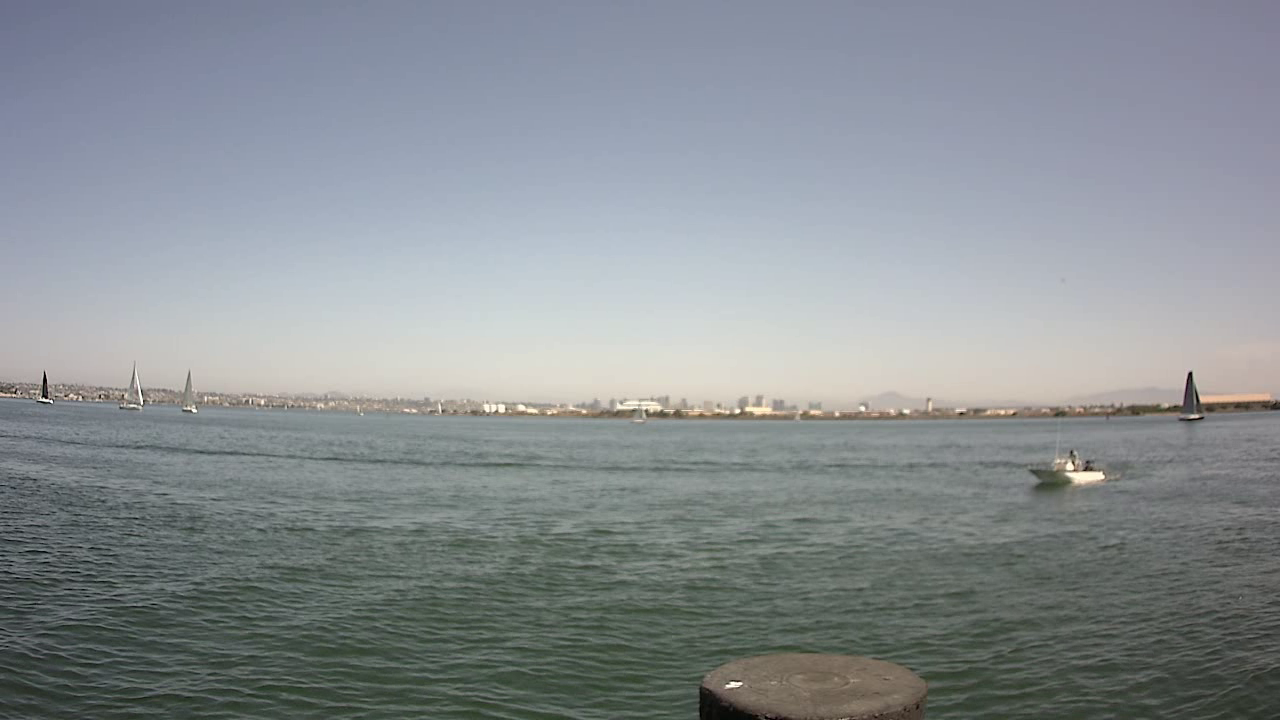target: (1028, 446, 1109, 489)
